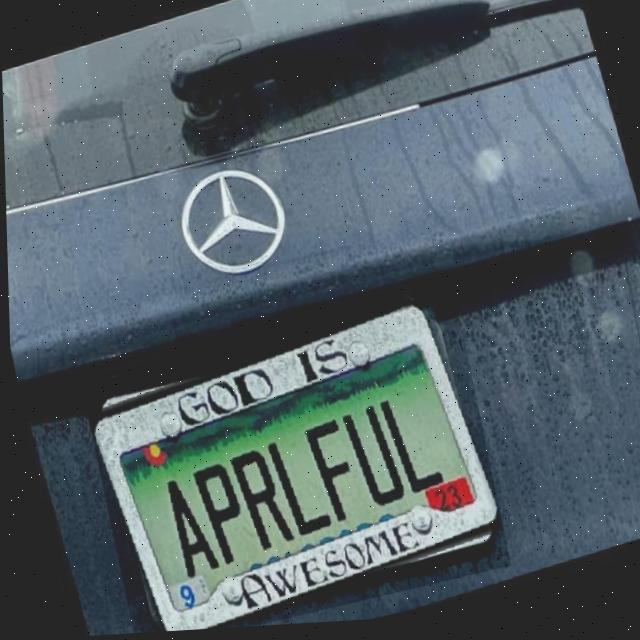LicensePlate: (87, 303, 498, 633)
